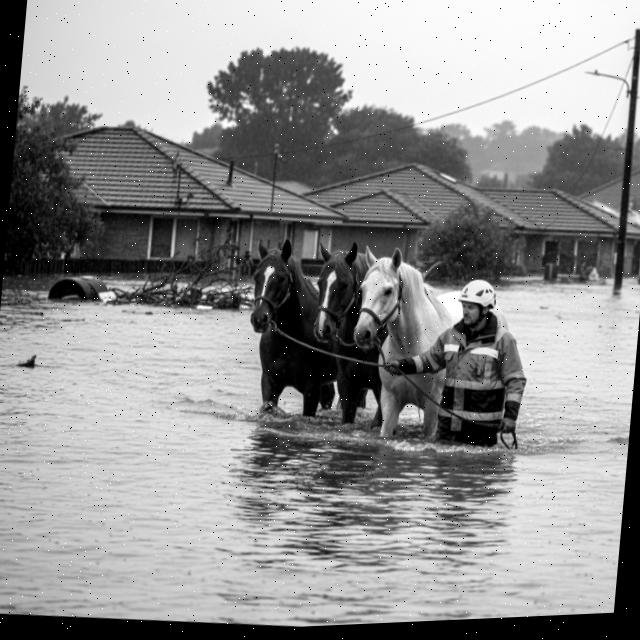horse: (228, 229, 352, 439), (342, 239, 461, 455), (288, 231, 406, 444)
rescuer: (376, 257, 544, 474)
